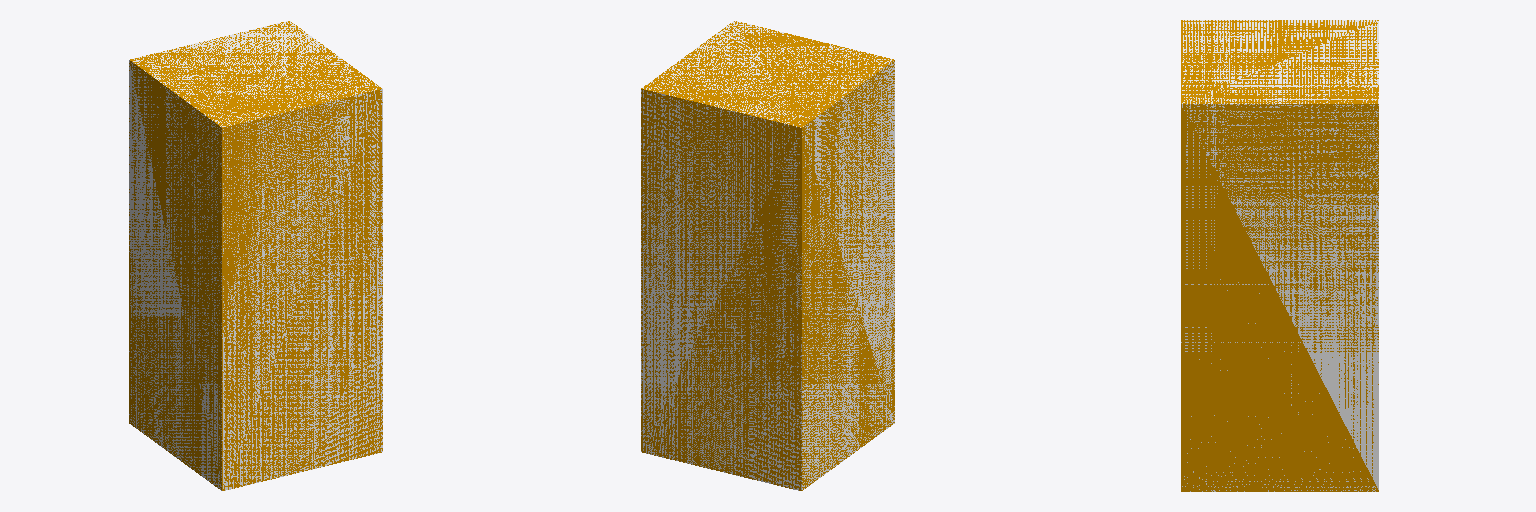
URDF robot description (my_object):
<?xml version="1.0" ?> 
<robot name="my_object" static="true">
  <link name="base_link">
  <inertial>
    <mass value="0.013" />
    <origin xyz="0 0 0.0" />
    <inertia ixx="1.0" ixy="0.0" ixz="0.0" iyy="1.0" iyz="0.0" izz="1.0"/>
  </inertial>
  <visual>
   <origin xyz="0 0 0.0" rpy="0 0 0" />
   <geometry>
     <mesh filename="package://cob_gazebo_objects/Media/models/medication_prospan_empty.dae"/>
   </geometry>
  </visual>
  <collision>
   <origin xyz="0 0 0" rpy="0 0 0" />
   <geometry>
     <box size="0.12 0.056 0.12" />
   </geometry>
  </collision>     
  </link>

<gazebo>
	<static>true</static>
</gazebo>
</robot>

--- Render facts (derived) ---
Views: 3 orthographic renders of the robot side by side, from view 1: azimuth 30°, elevation 25°; view 2: azimuth 150°, elevation 25°; view 3: azimuth 270°, elevation 25°.
Model my_object with 1 links and 0 joints (none), rooted at base_link, posed all joints at 0.
Visible links, largest first — view 1: base_link; view 2: base_link; view 3: base_link.
Link boxes in pixels (<box>): base_link: <box>129,21,382,490</box>; base_link: <box>641,21,894,490</box>; base_link: <box>1181,20,1378,491</box>.
Bounding box of the posed robot: 0.0014 × 0.0014 × 0.003 m (x, y, z).
Meshes: 1 distinct files referenced, 1 mesh visuals loaded (1 Collada DAE).